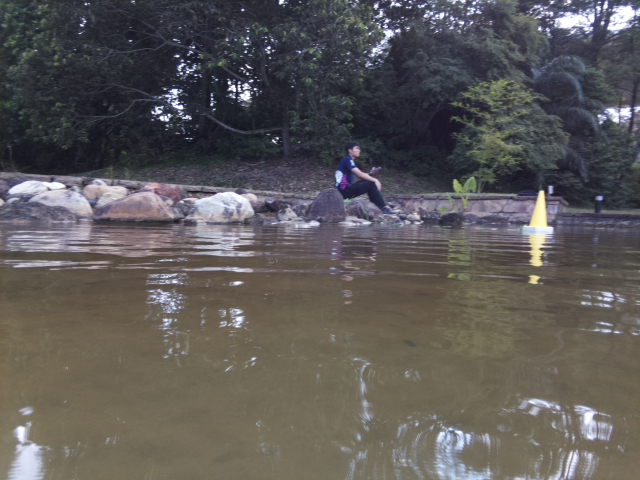checkpoint: (522, 189, 554, 235)
